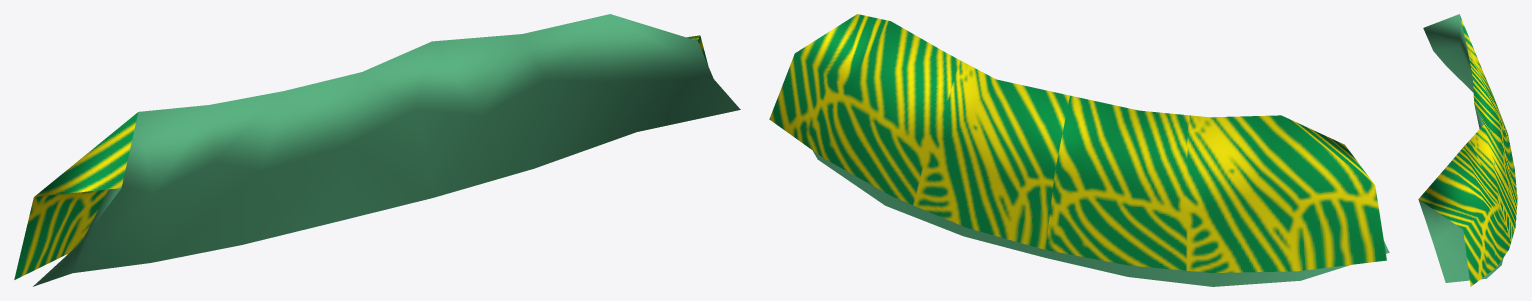
Rendered from Kerah.fbx.
3 renders of one model, left to right at view 1: azimuth 30°, elevation 25°; view 2: azimuth 150°, elevation 25°; view 3: azimuth 270°, elevation 25°, orthographic. The views are drawn at different scales.
Visible parts, largest first — view 1: Kerah.005; view 2: Kerah.005; view 3: Kerah.005.
Part boxes in pixels (x1,y1,x2,y2): Kerah.005: (14, 14, 740, 286); Kerah.005: (769, 14, 1389, 286); Kerah.005: (1418, 14, 1517, 286).
Bounding box in the file's own units: 145 × 37.87 × 27.34.
2 materials, 1 textured.
